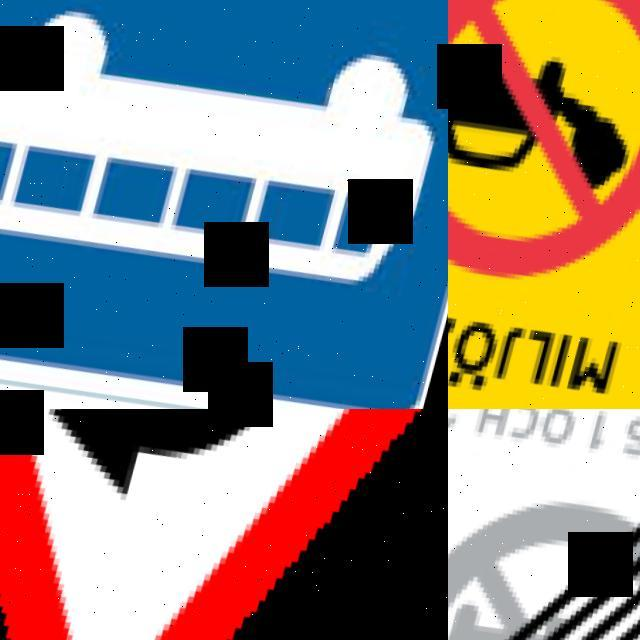110: (448, 409, 640, 640)
70: (448, 0, 640, 409)
Bus stop: (0, 0, 448, 409)
Right curve: (0, 409, 448, 640)
